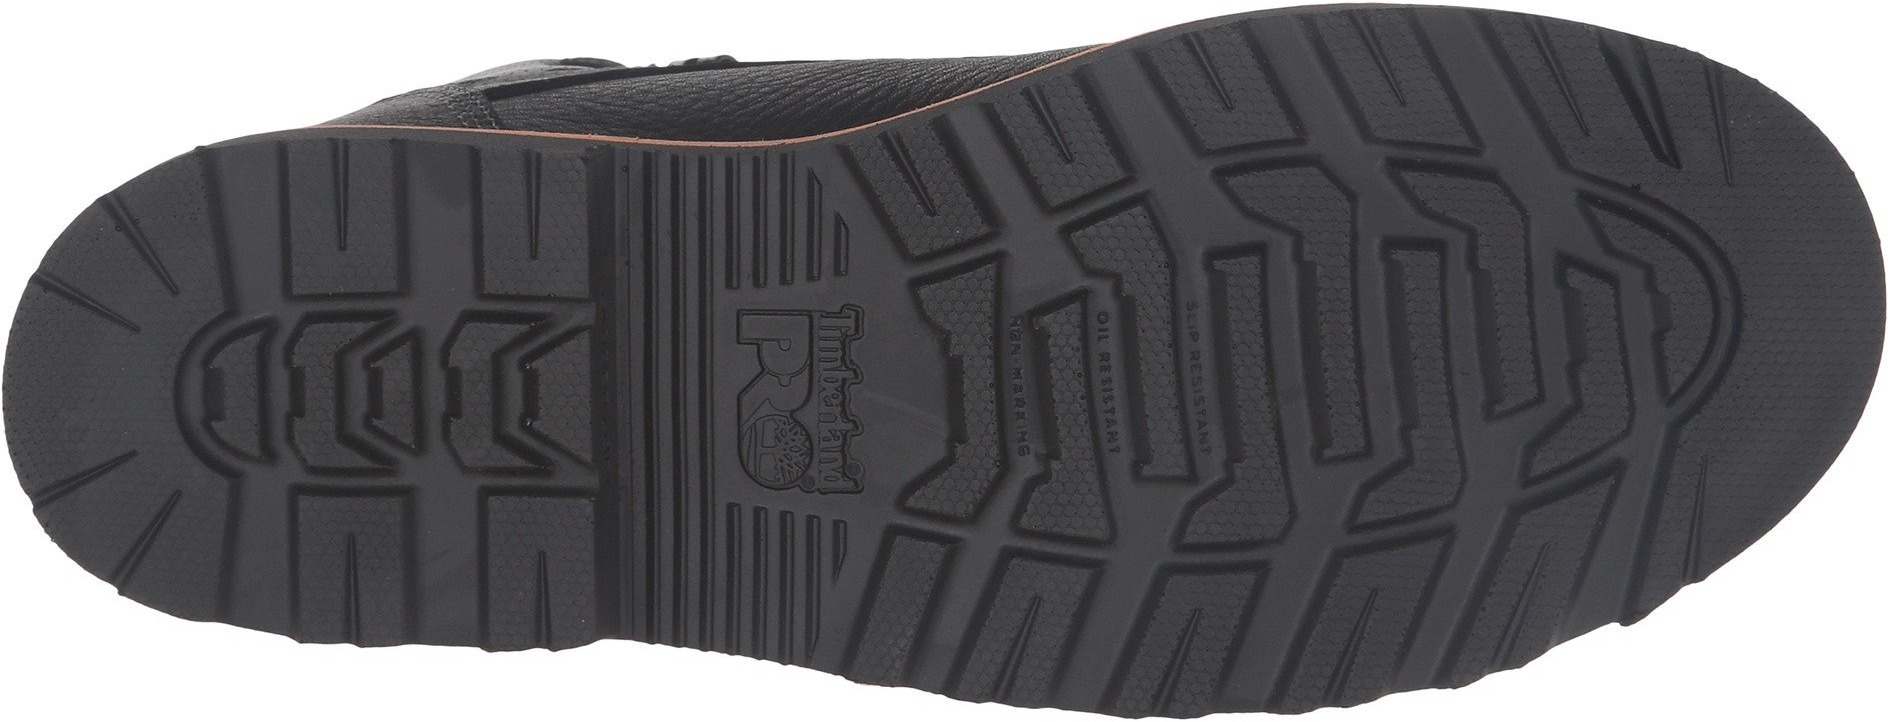chevron: (1350, 125, 1583, 423)
circle: (700, 278, 894, 505)
other: (1725, 204, 1880, 358)
quad: (1350, 125, 1583, 423), (832, 512, 1138, 714), (513, 318, 616, 477)
text: (700, 278, 894, 505), (714, 295, 882, 434)
